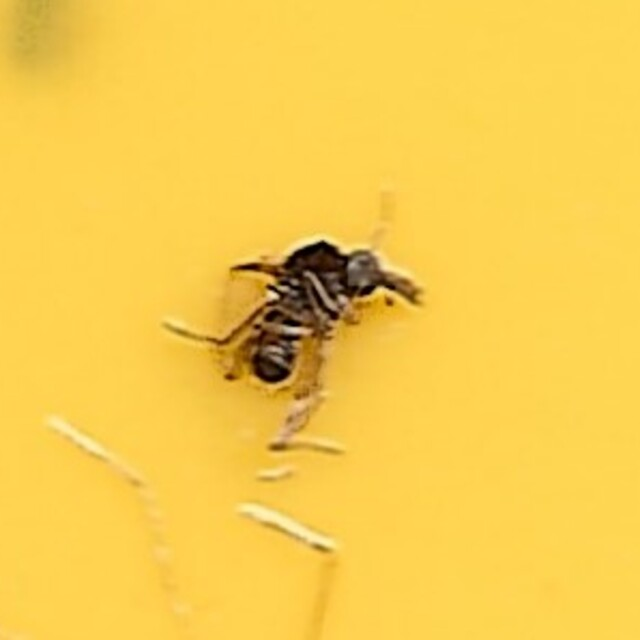Brachycera: (215, 229, 425, 411)
